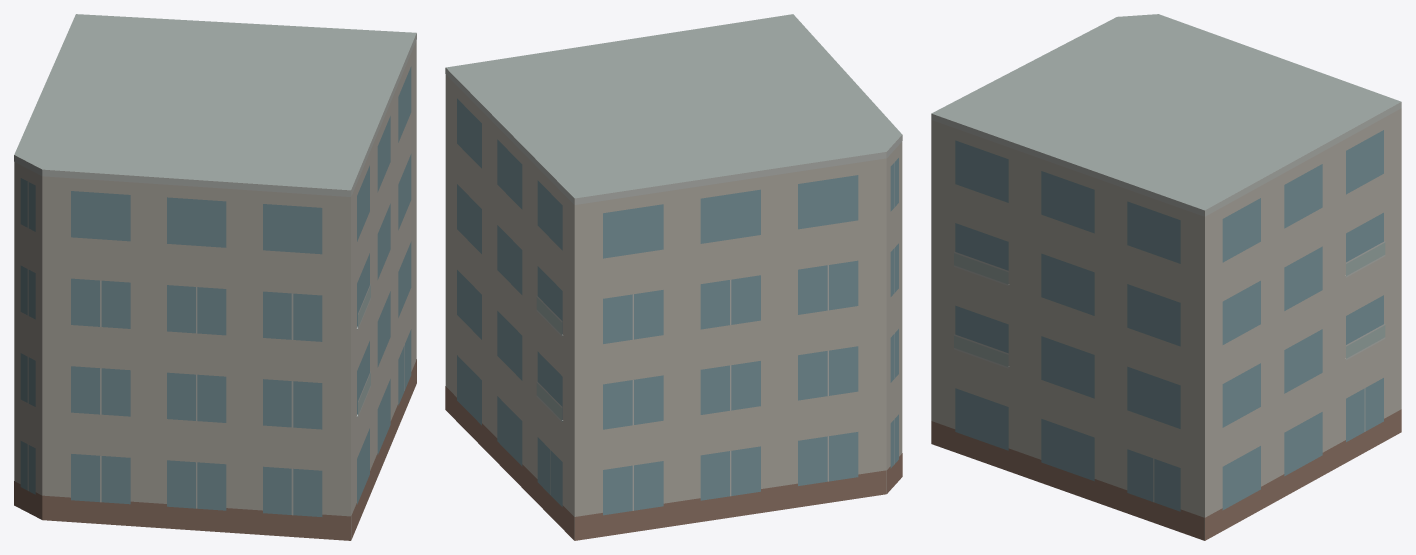
File: survey-upis-32700550.glb
3 renders of one model, left to right at view 1: azimuth 30°, elevation 25°; view 2: azimuth 150°, elevation 25°; view 3: azimuth 270°, elevation 25°, orthographic. The views are drawn at different scales.
Visible parts, largest first — view 1: survey-upis-32700550.tmp; view 2: survey-upis-32700550.tmp; view 3: survey-upis-32700550.tmp.
Part boxes in pixels (x1,y1,x2,y2): survey-upis-32700550.tmp: (14, 14, 416, 540); survey-upis-32700550.tmp: (445, 14, 902, 540); survey-upis-32700550.tmp: (931, 14, 1401, 540).
Bounding box in the file's own units: 16.21 × 12.7 × 16.4.
